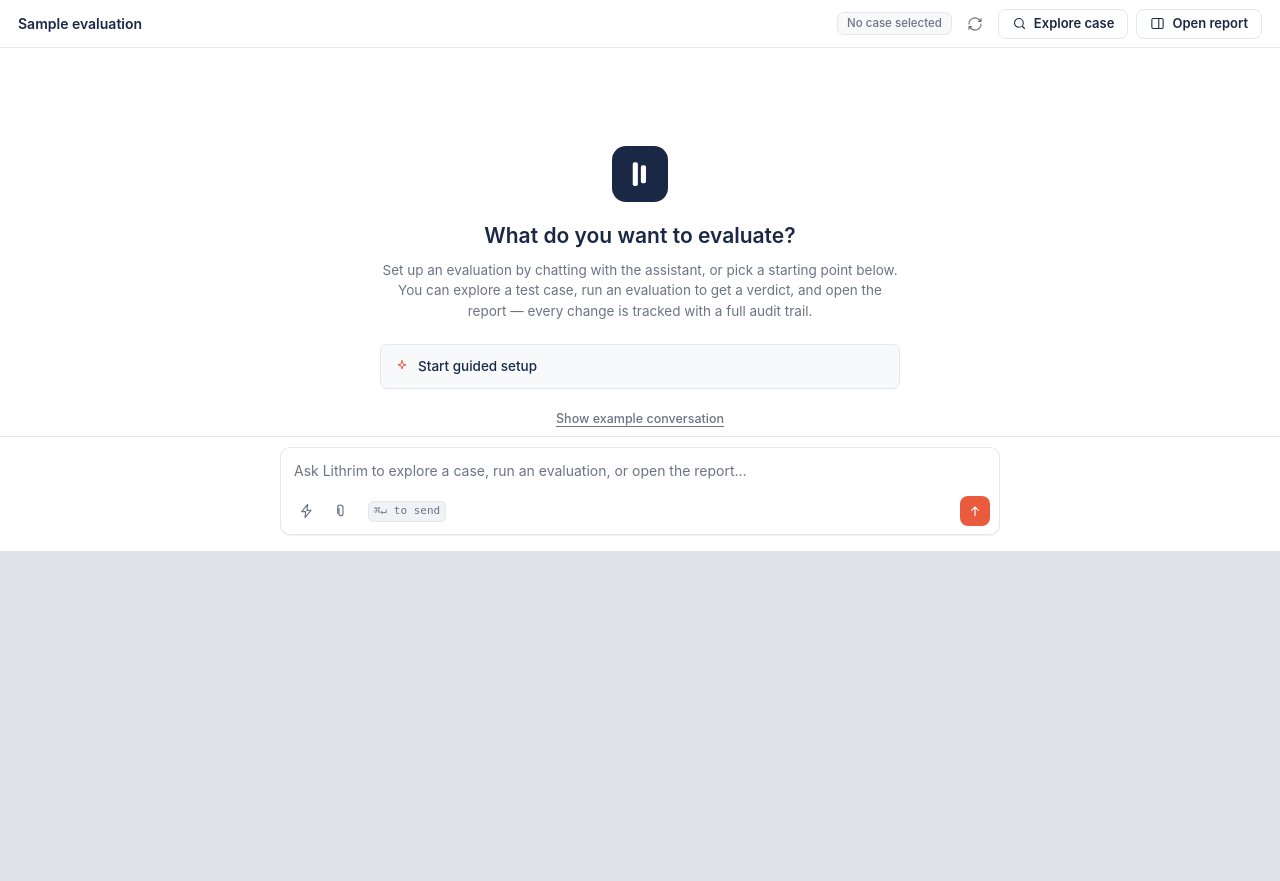
Scenario: CenterPane — the R11 conversational loop › ONB-0: a 2nd send replays the prior turn as history (memory threads to the loop)
Note: turn 1 — the default scripted stream yields assistant text "Authoring the risk judge…"
Step 1. Replace the text in the text box with placeholder "Ask Lithrim" with "my domain is radiology" → (640, 467), box [281,448,999,485]
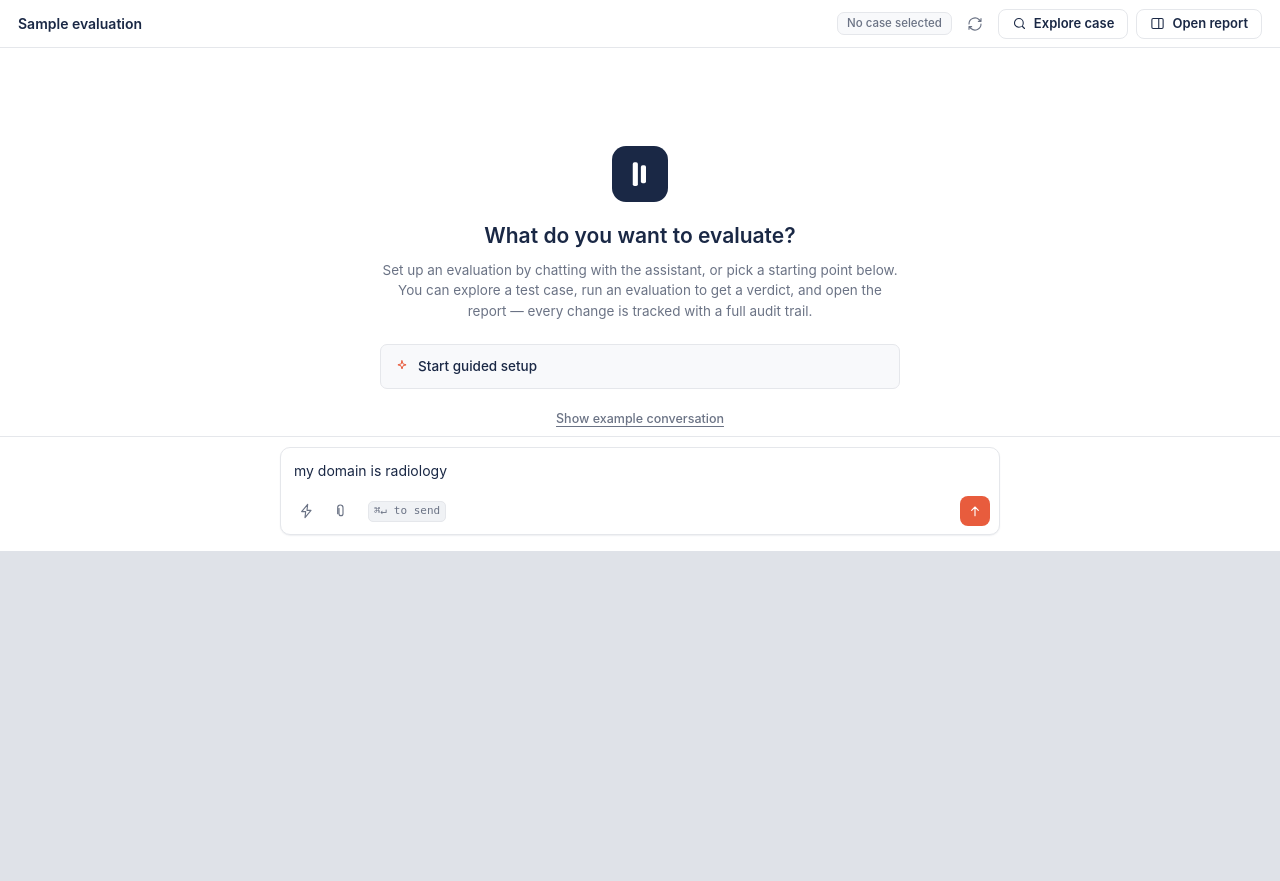
Step 2. Click the button with test id "chat-send" → (975, 511), box [960,496,990,526]
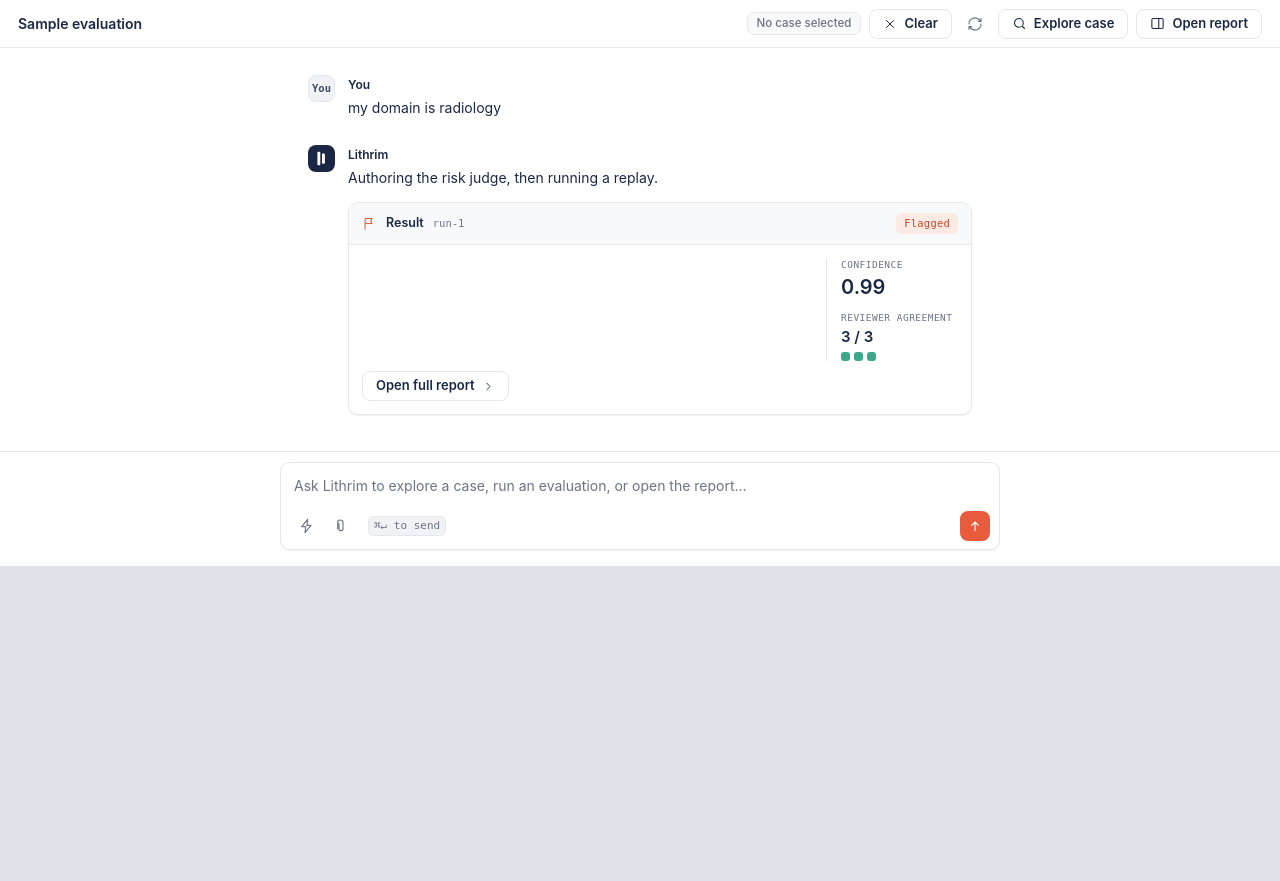
Expected: the text "Authoring the risk judge, then running a replay." is shown, [348,169,658,186]
Note: turn 2 — history must carry turn 1: the user msg + the streamed assistant text
Step 3. Replace the text in the text box with placeholder "Ask Lithrim" with "what did we just do?" → (640, 482), box [281,463,999,500]
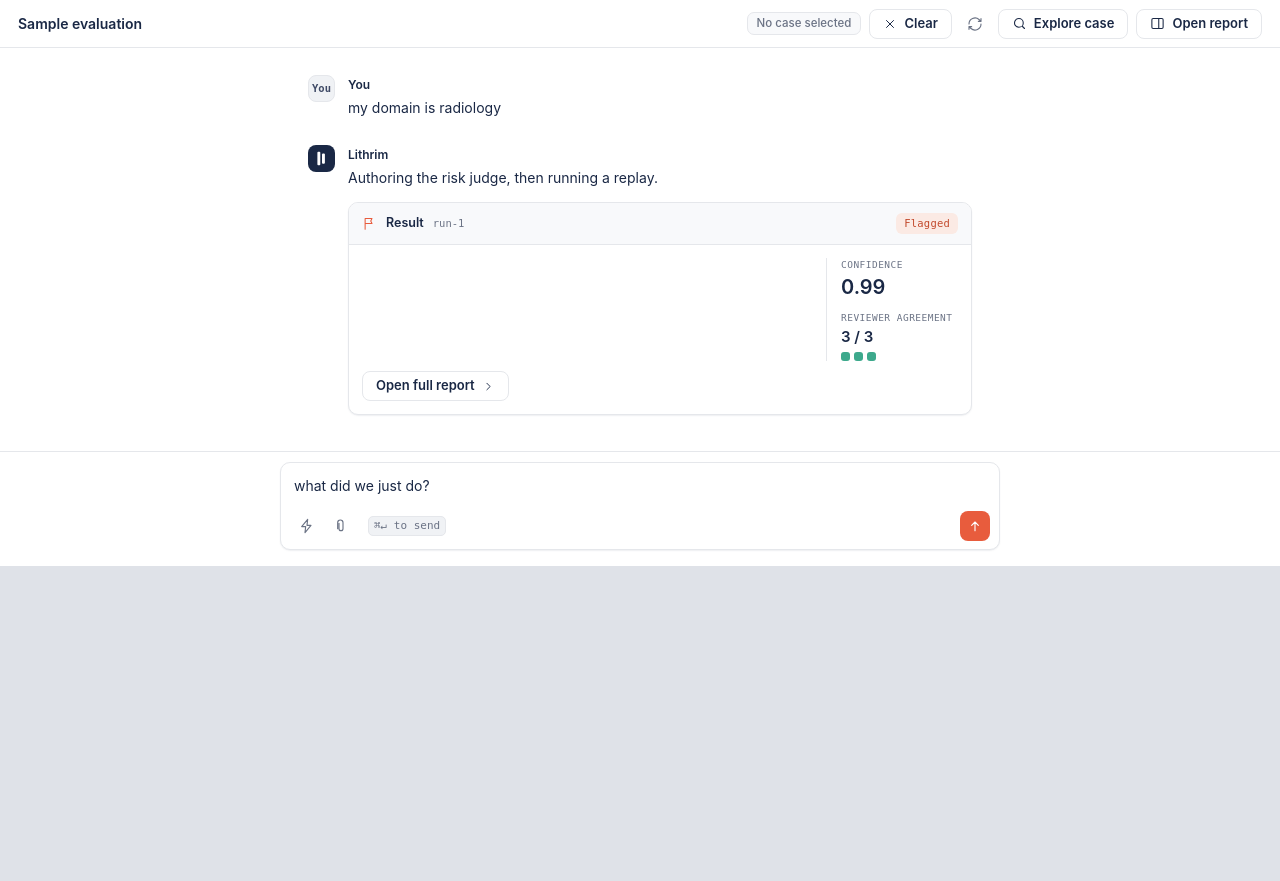
Step 4. Click the button with test id "chat-send" → (975, 526), box [960,511,990,541]
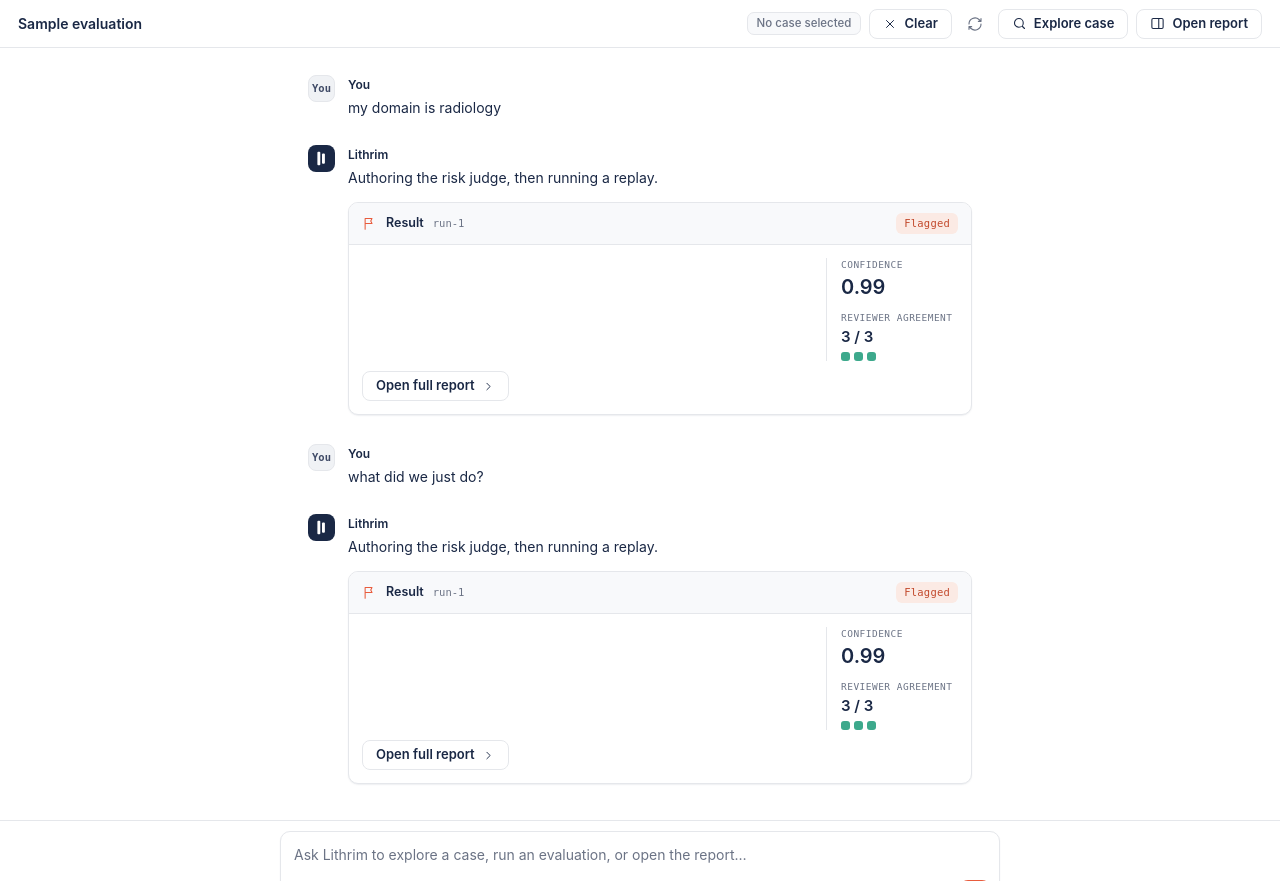
Expected: the text "what did we just do?" is shown, [348,468,484,485]
